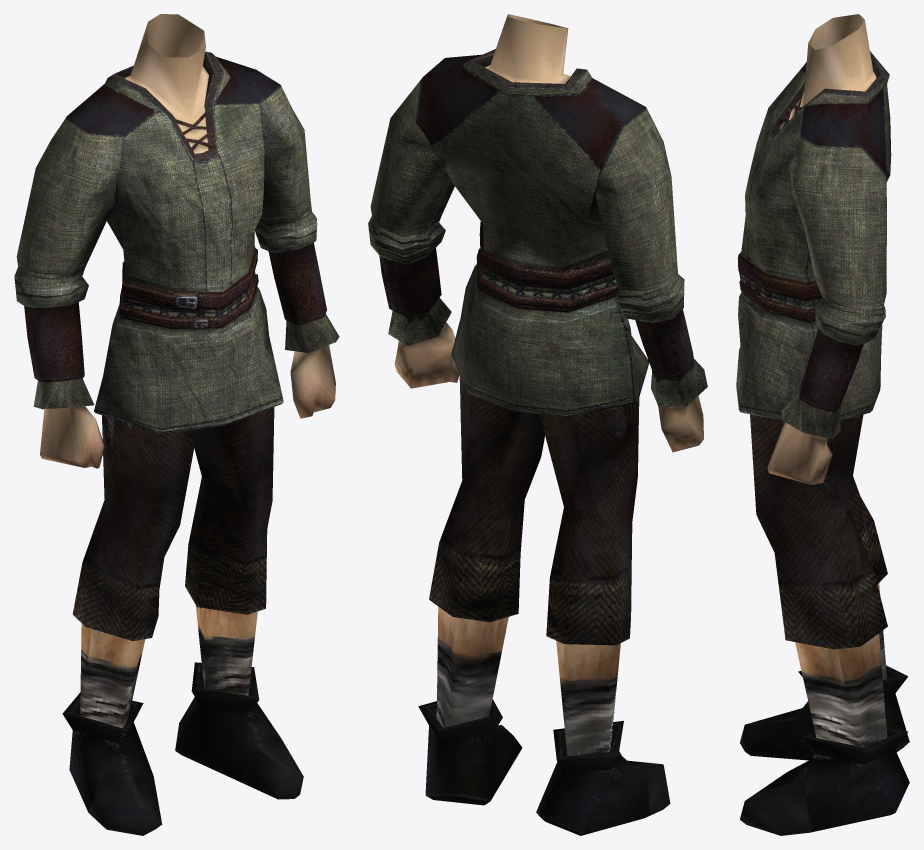
File: GS_SLAV_VLK_02_KOZA.glb
The picture shows the model from 3 angles, left to right: view 1: azimuth 30°, elevation 25°; view 2: azimuth 150°, elevation 25°; view 3: azimuth 270°, elevation 25°; orthographic projection. The views are drawn at different scales.
Visible parts, largest first — view 1: GS_SLAV_VLK_02_KOZA; view 2: GS_SLAV_VLK_02_KOZA; view 3: GS_SLAV_VLK_02_KOZA.
Part boxes in pixels (x1,y1,x2,y2): GS_SLAV_VLK_02_KOZA: (14,14,339,835); GS_SLAV_VLK_02_KOZA: (368,14,707,835); GS_SLAV_VLK_02_KOZA: (736,14,909,835).
Size of the model in its own units: 0.6903 by 1.69 by 0.346.
2 materials, 2 textured.
